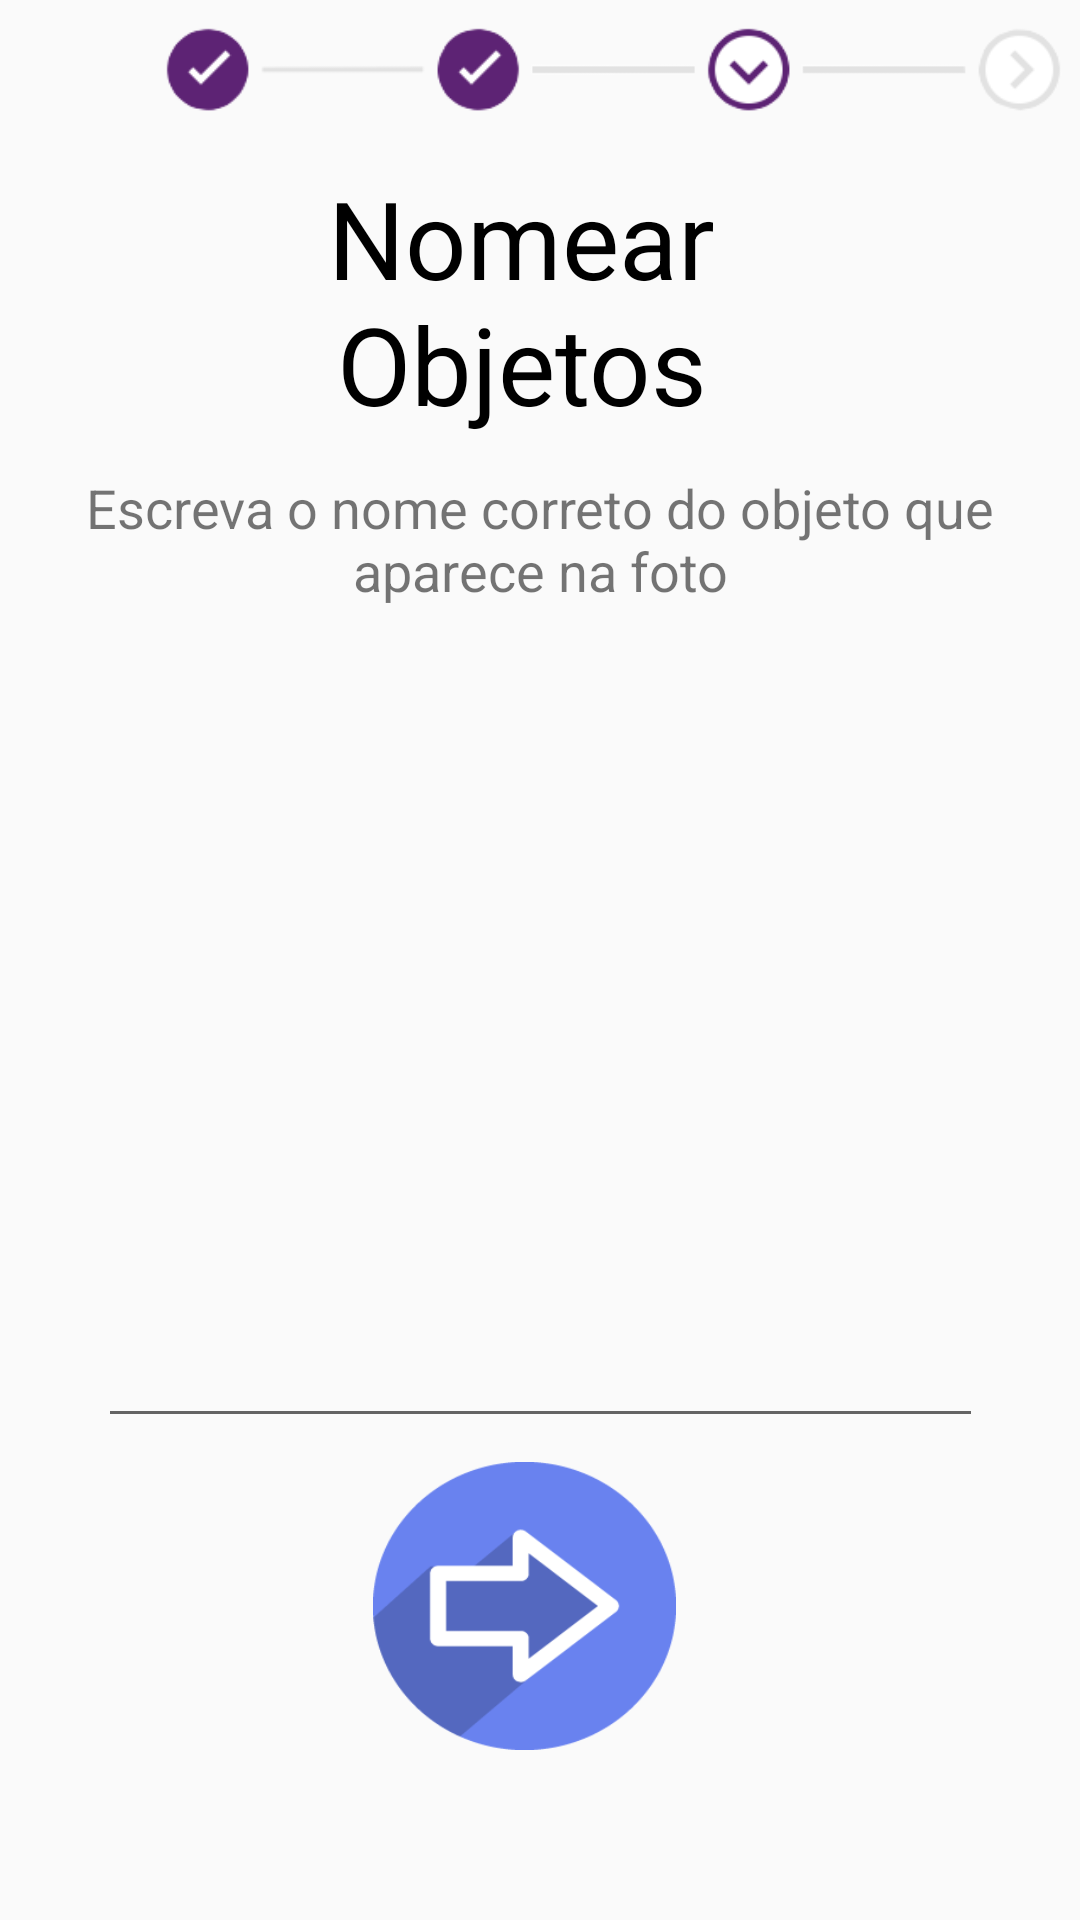

Locate icon controls on the screen. Image size 1080x1920, boxes as detection(x1, y1, x2, y2).
arrow: detection(373, 1462, 676, 1750)
